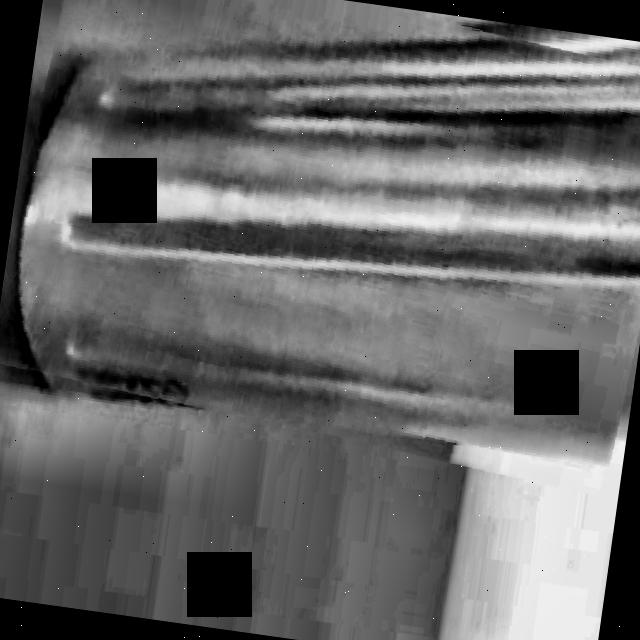bottle: (10, 30, 640, 466)
